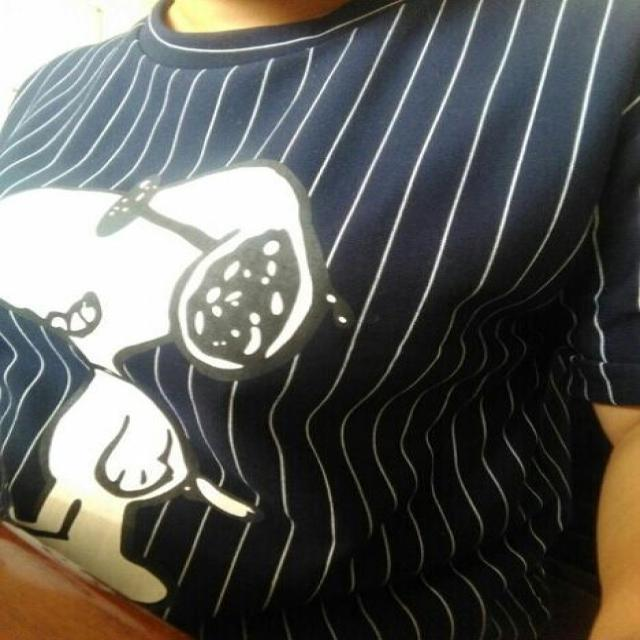short-sleeve-top: (26, 22, 640, 547)
